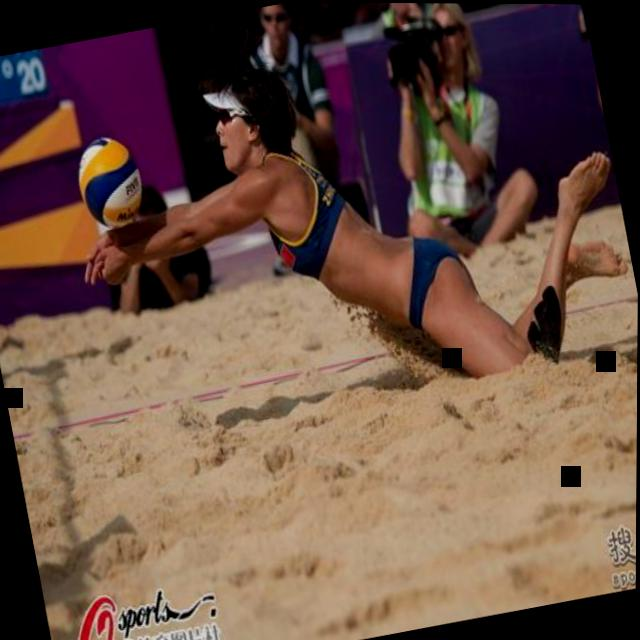Fall-Detected: (56, 0, 640, 465)
